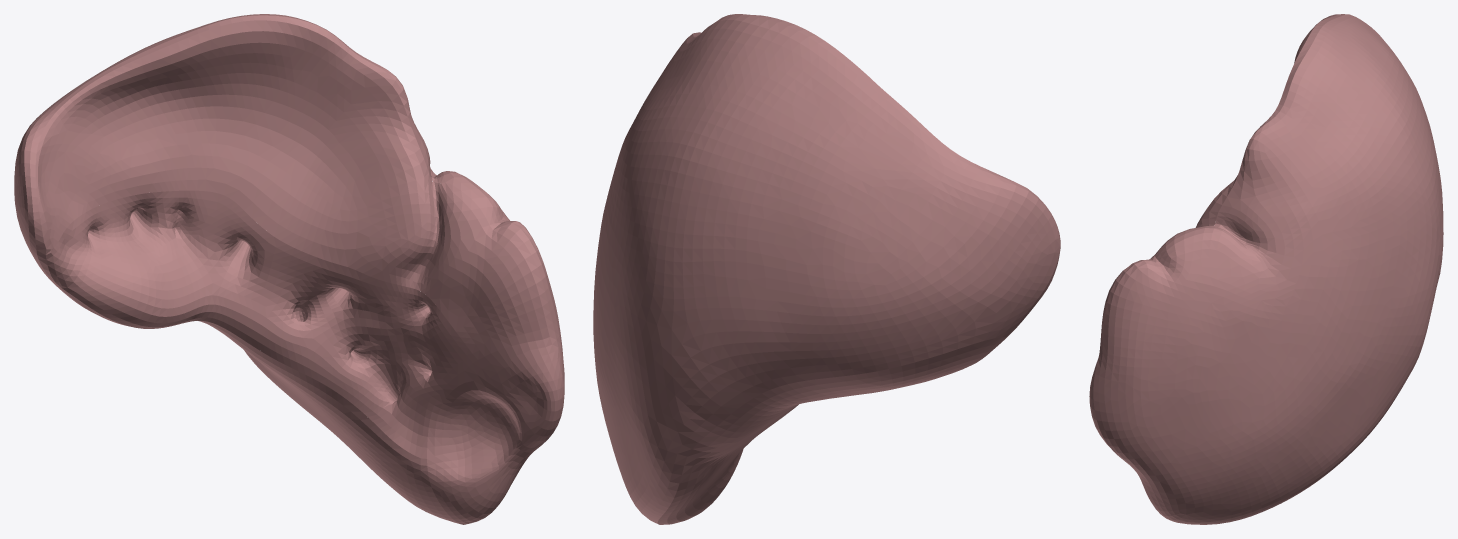
Rendered from VH_M_Spleen_0.8.glb.
The picture shows the model from 3 angles, left to right: view 1: azimuth 30°, elevation 25°; view 2: azimuth 150°, elevation 25°; view 3: azimuth 270°, elevation 25°; orthographic projection. The views are drawn at different scales.
Parts seen in each view (by area): view 1: VH_M_gastric_surface_of_spleen, VH_M_hilum_of_spleen, VH_M_colic_surface_of_spleen, VH_M_diaphragmatic_surface_of_spleen, VH_M_renal_surface_of_spleen; view 2: VH_M_diaphragmatic_surface_of_spleen, VH_M_renal_surface_of_spleen; view 3: VH_M_diaphragmatic_surface_of_spleen, VH_M_gastric_surface_of_spleen.
Boxes of the visible parts, x1,y1,x2,y2 form: VH_M_gastric_surface_of_spleen: [35, 20, 549, 359]; VH_M_hilum_of_spleen: [45, 190, 477, 458]; VH_M_colic_surface_of_spleen: [427, 337, 564, 524]; VH_M_diaphragmatic_surface_of_spleen: [14, 14, 564, 504]; VH_M_renal_surface_of_spleen: [51, 281, 459, 523]; VH_M_diaphragmatic_surface_of_spleen: [593, 14, 1060, 523]; VH_M_renal_surface_of_spleen: [657, 337, 1006, 524]; VH_M_diaphragmatic_surface_of_spleen: [1093, 14, 1443, 524]; VH_M_gastric_surface_of_spleen: [1149, 27, 1314, 259].
Size of the model in its own units: 0.1104 by 0.1186 by 0.0886.
